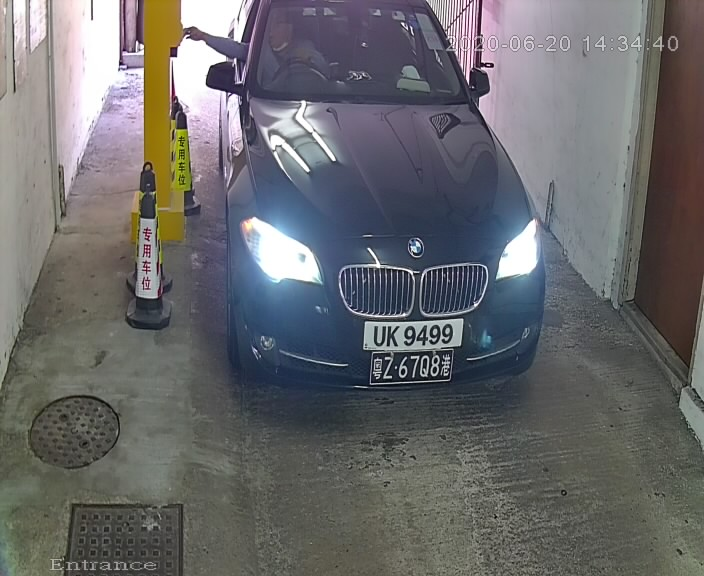privatecar: (184, 3, 548, 438)
